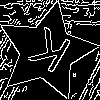K: (21, 26, 74, 83)
